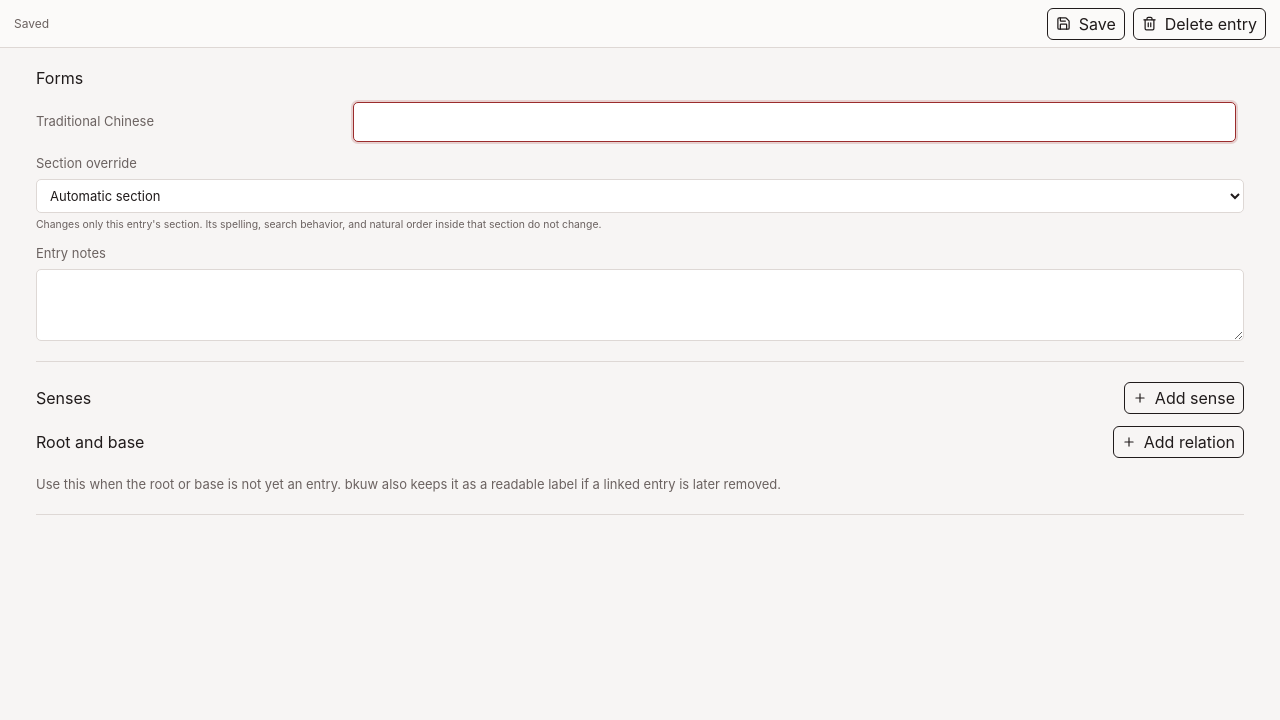
Test: EntryEditor › keeps a dirty draft and rejects flush when the backend save fails
Step 1. Type "guò" into the field named "Text" → x=794, y=122, box [353,102,1236,142]
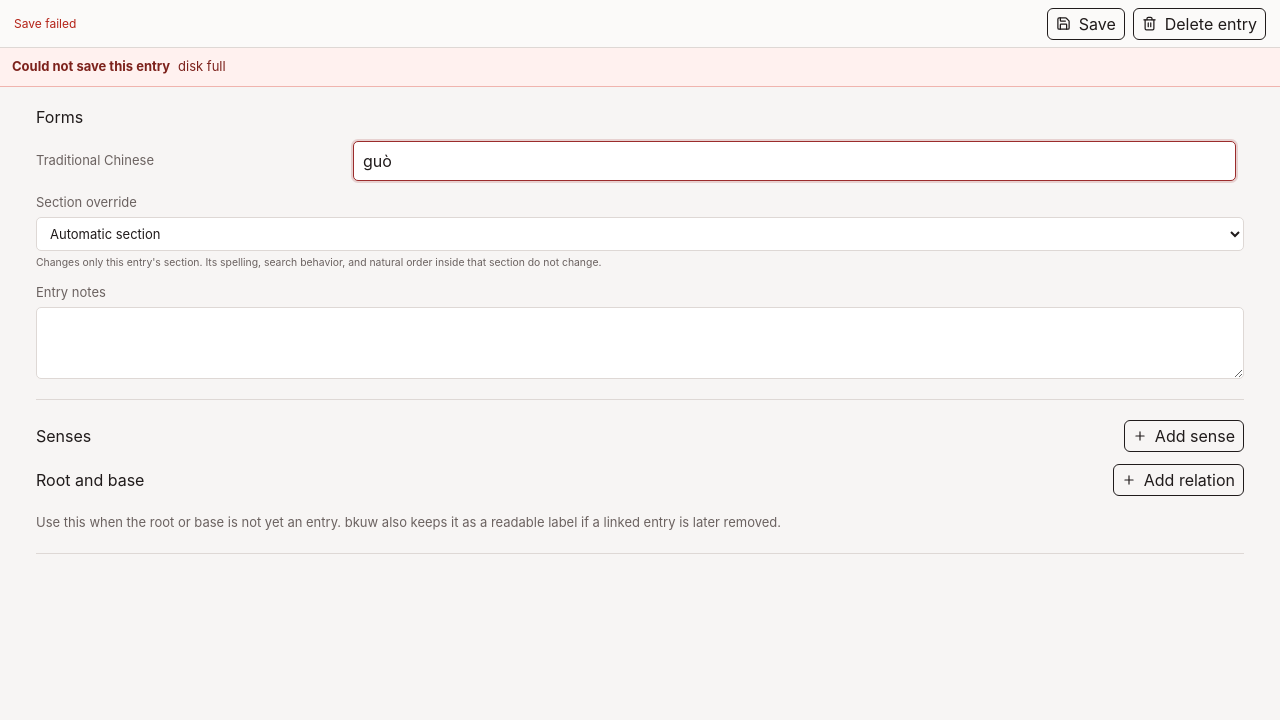
Check: the text "Save failed" is shown, box [14,14,76,32]
Check: the message "Could not save this entry disk full" is shown, box [0,48,1279,86]
